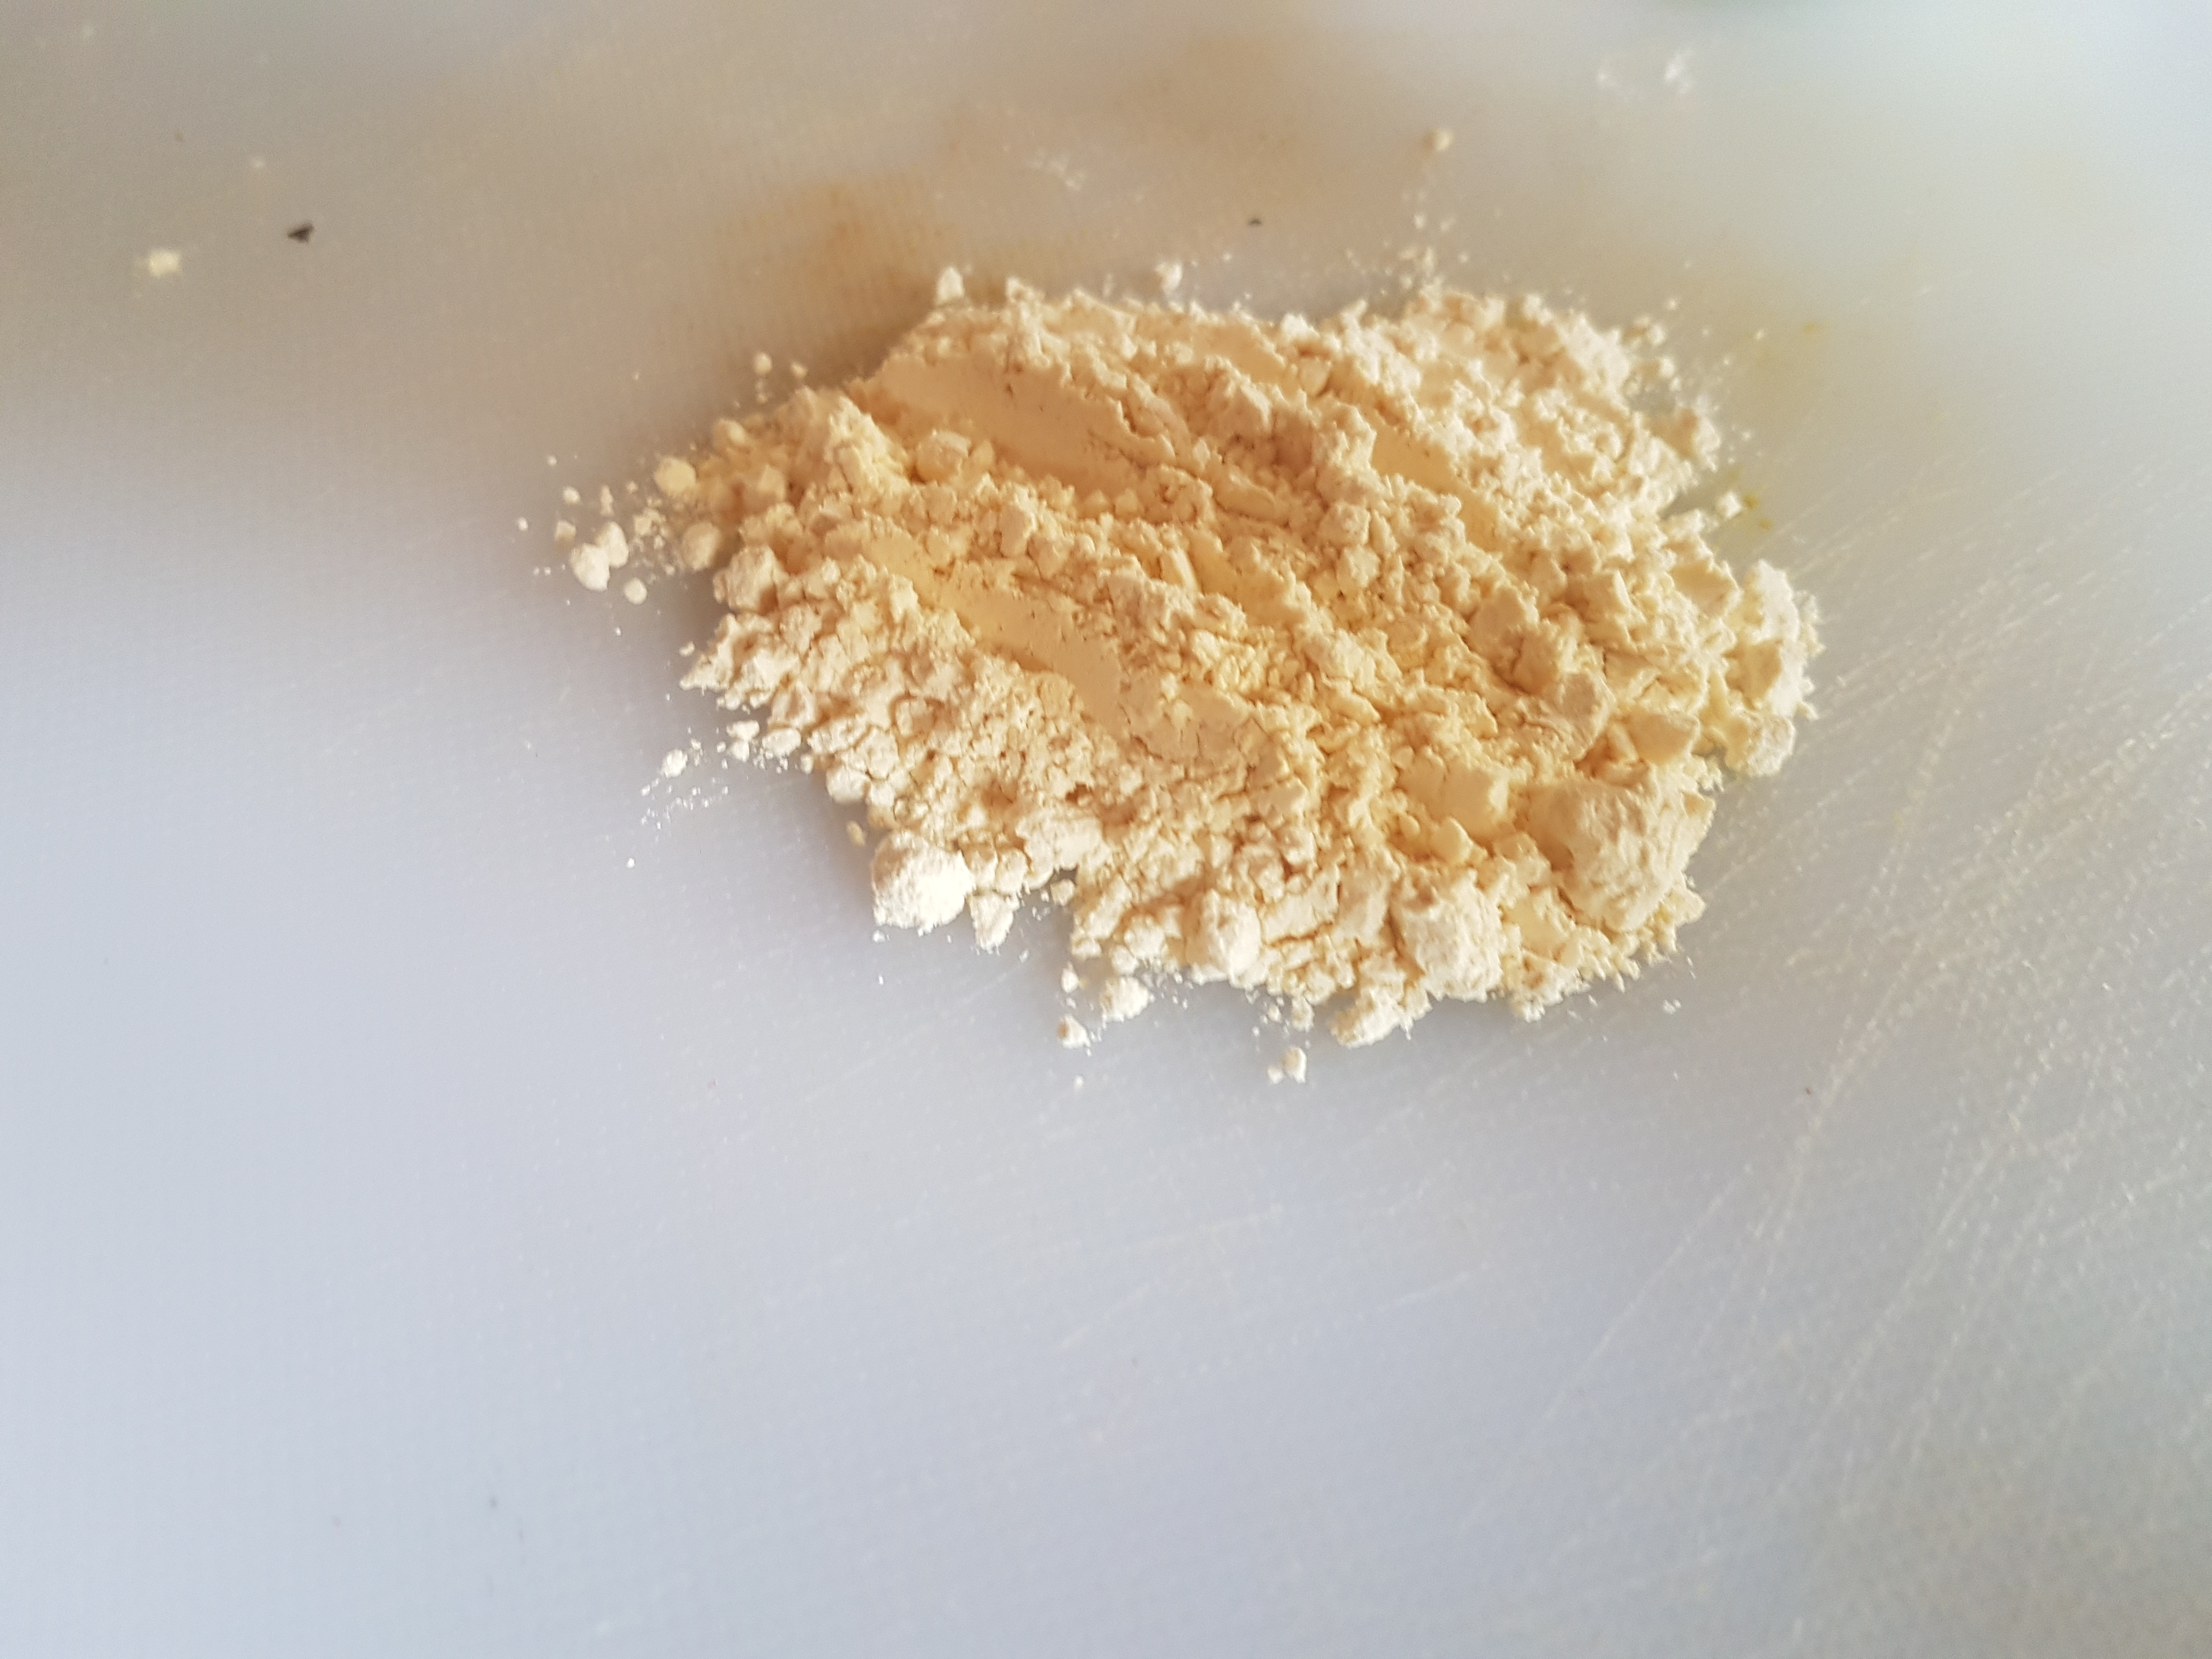Gram Flour: (496, 166, 1881, 1080)
